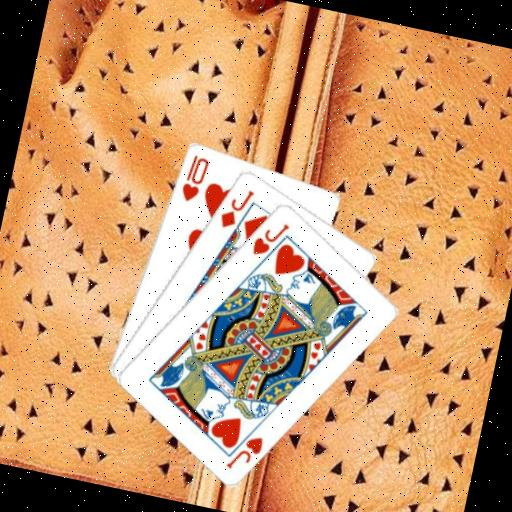10H: (176, 150, 212, 205)
JD: (215, 181, 256, 233)
JH: (247, 213, 292, 262), (222, 427, 266, 476)
